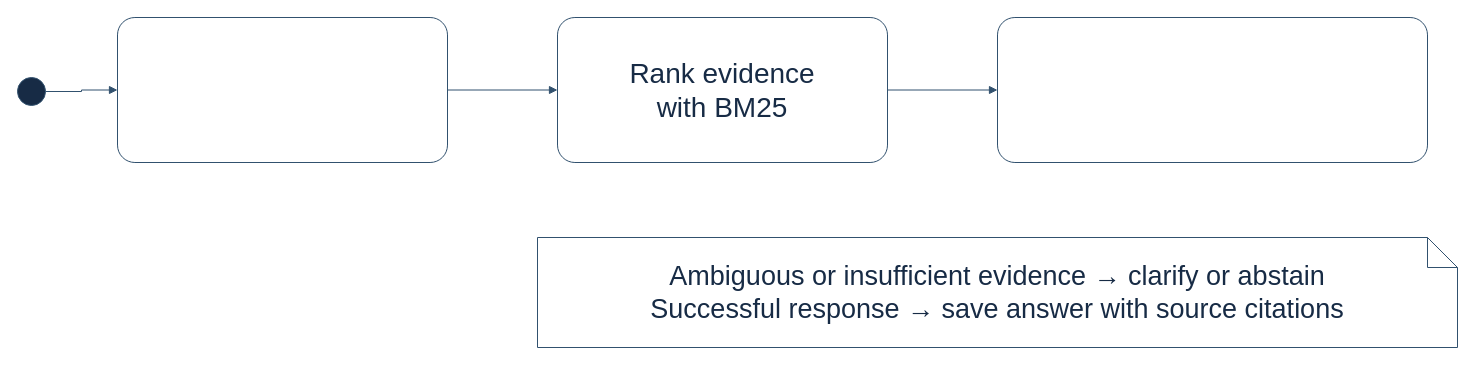
The diagram is 1475 pixels wide and 365 high, and some of its shapes have lost their labels. Each missing label, with the centre of its shape:
"Check evidence and assemble required supported facts" belongs at point 1212,89.
"Load the published course and allowed sources" belongs at point 282,89.
